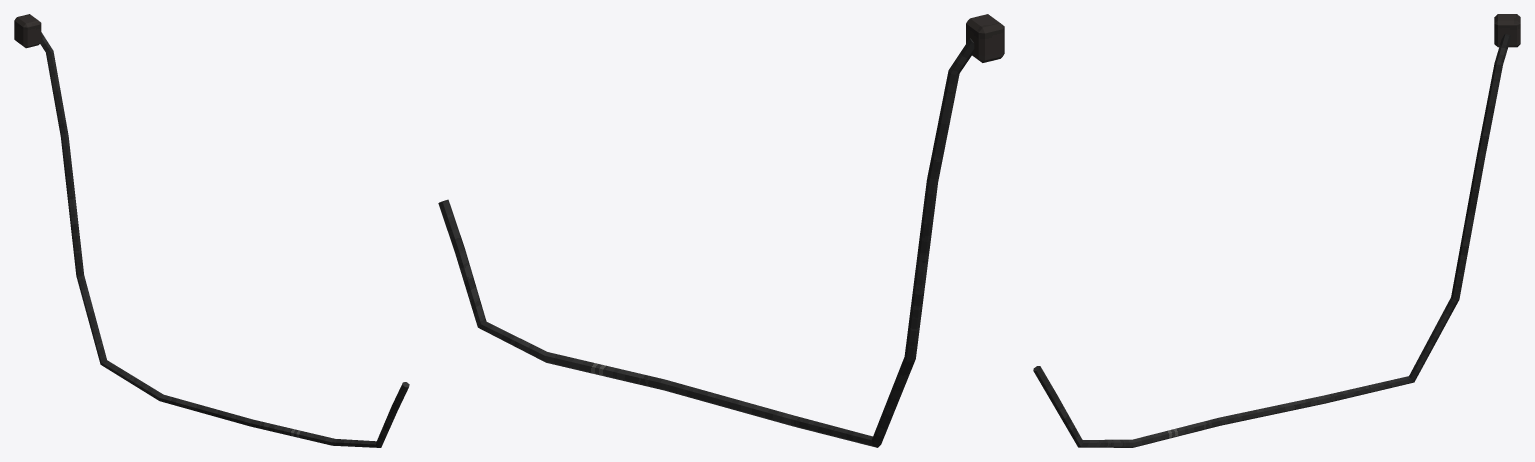
File: gk_cordchanger.glb
3 views of the same model, side by side, from view 1: azimuth 30°, elevation 25°; view 2: azimuth 210°, elevation 25°; view 3: azimuth 270°, elevation 25° (orthographic). The views are drawn at different scales.
Visible parts, largest first — view 1: p; view 2: p; view 3: p.
Boxes of the visible parts, x1=… form: p: x1=14, y1=14, x2=409, y2=447; p: x1=438, y1=14, x2=1004, y2=447; p: x1=1033, y1=14, x2=1520, y2=447.
Size of the model in its own units: 0.2484 by 0.4559 by 0.559.
Materials: 2 (2 with a texture image).
